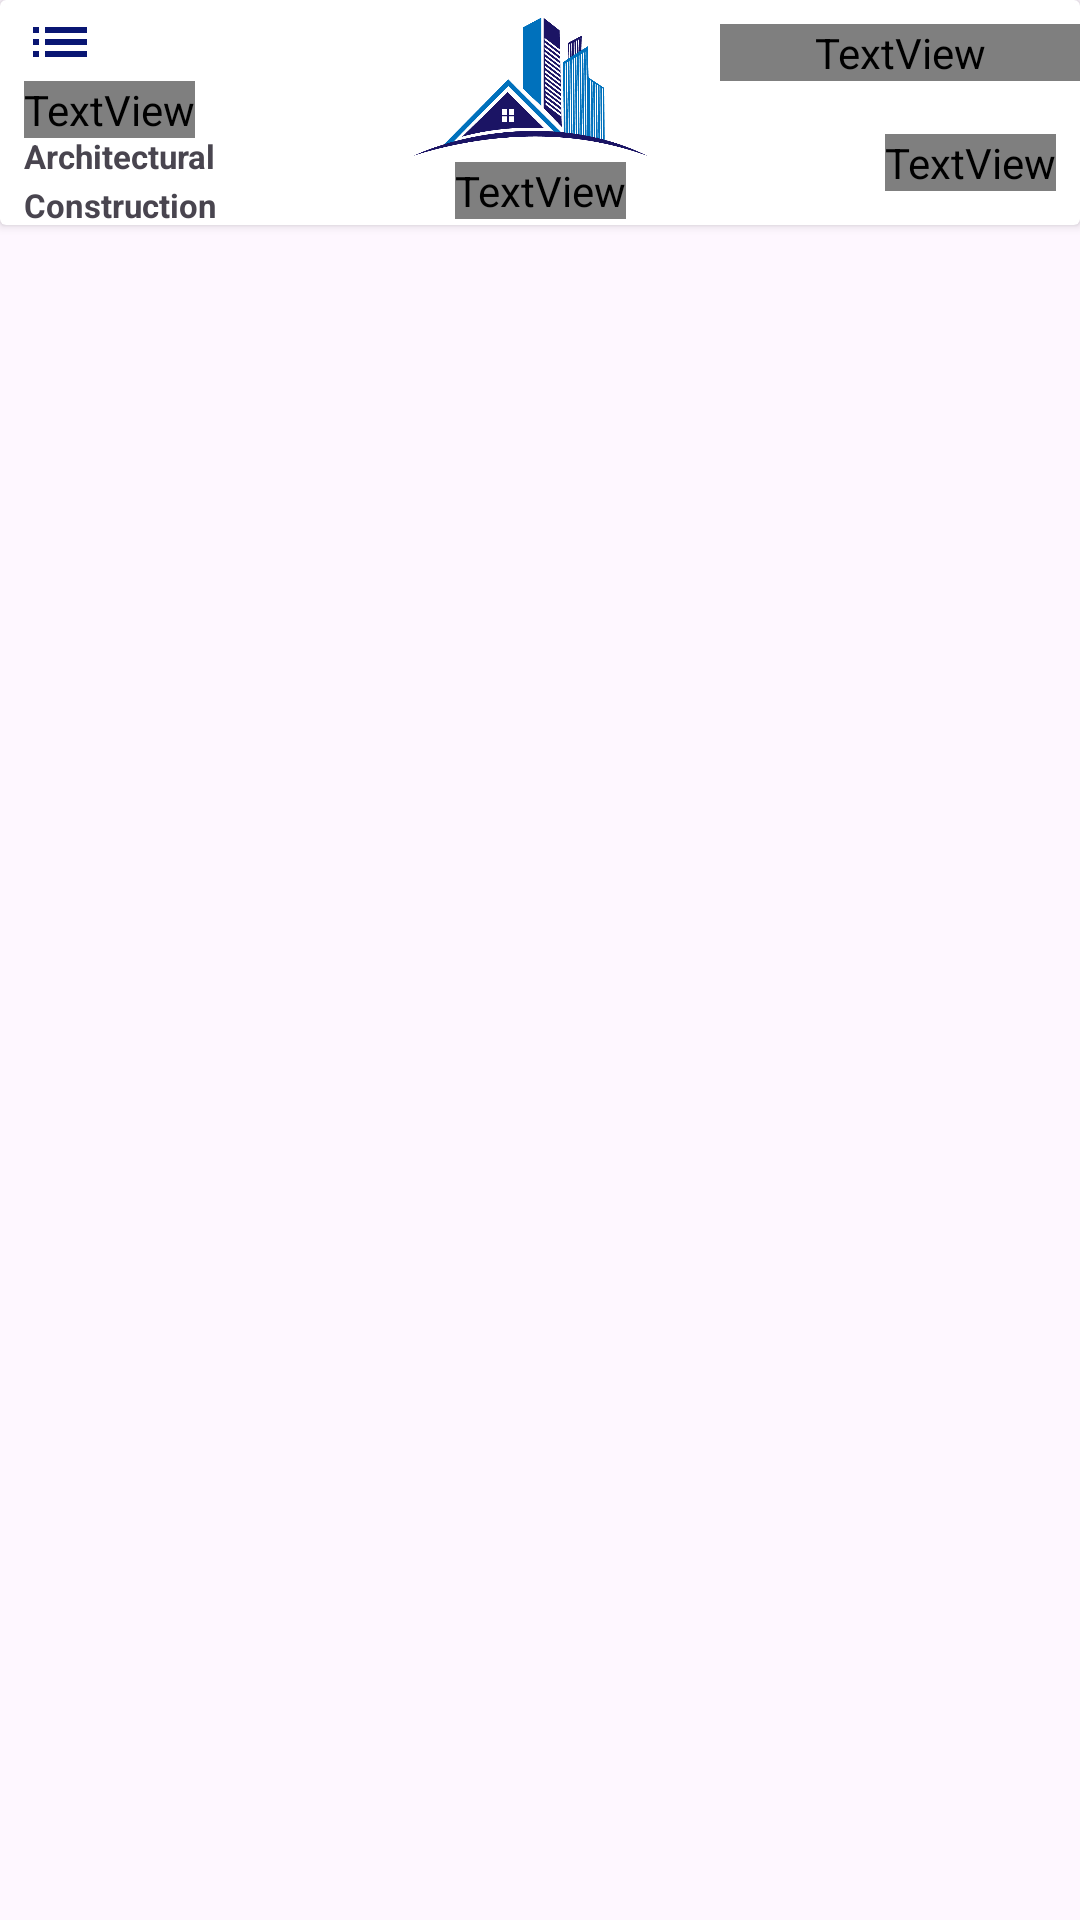

Named icons in this screenshot (1080*1920) and their bounding boxes, (x1, y1, x2, y2):
homenew: (414, 18, 647, 156)
